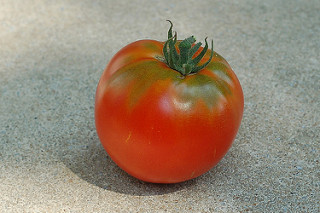tomato: (100, 35, 244, 189)
